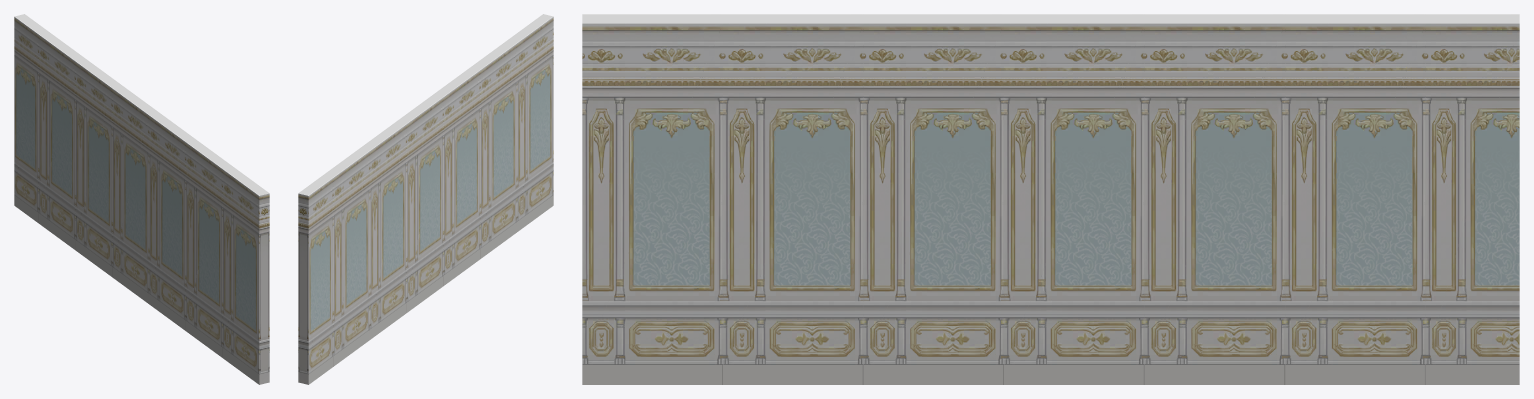
Rendered from my_teaparty_01_wall_right_1x20.glb.
3 renders of one model, left to right at view 1: azimuth 30°, elevation 25°; view 2: azimuth 150°, elevation 25°; view 3: azimuth 270°, elevation 25°, orthographic. The views are drawn at different scales.
Visible parts, largest first — view 1: my_teaparty_01_wall_right_1x20; view 2: my_teaparty_01_wall_right_1x20; view 3: my_teaparty_01_wall_right_1x20.
Boxes of the visible parts, box(x1,y1,x2,y2) form: my_teaparty_01_wall_right_1x20: box(14, 14, 269, 384); my_teaparty_01_wall_right_1x20: box(298, 14, 553, 384); my_teaparty_01_wall_right_1x20: box(582, 14, 1519, 384).
Size of the model in its own units: 0.00297 by 0.051 by 0.12.
Materials: 1 (1 with a texture image).
